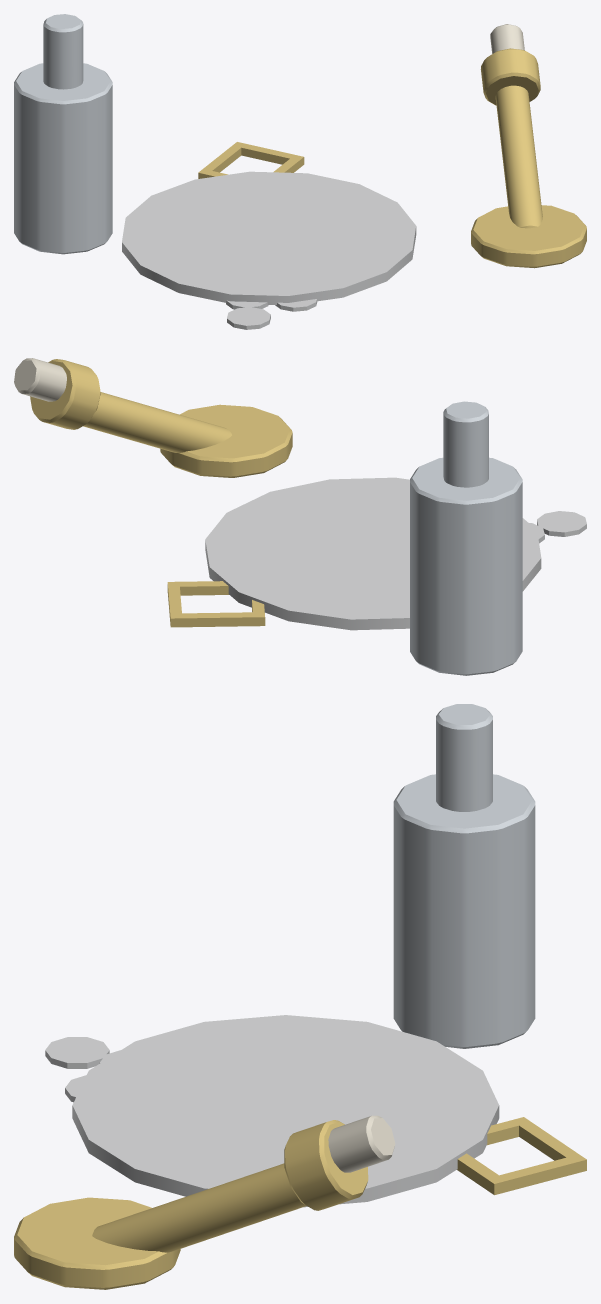
Rendered from Loot_Trinket_Junk.fbx.
The picture shows the model from 3 angles, top to bottom: view 1: azimuth 30°, elevation 25°; view 2: azimuth 150°, elevation 25°; view 3: azimuth 270°, elevation 25°; orthographic projection. The views are drawn at different scales.
Visible parts, largest first — view 1: Loot_Trinket_Junk; view 2: Loot_Trinket_Junk; view 3: Loot_Trinket_Junk.
Boxes of the visible parts, x1,y1,x2,y2 form: Loot_Trinket_Junk: (14, 14, 586, 329); Loot_Trinket_Junk: (14, 358, 586, 675); Loot_Trinket_Junk: (14, 704, 586, 1289).
Size of the model in its own units: 31.42 by 14 by 23.1.
